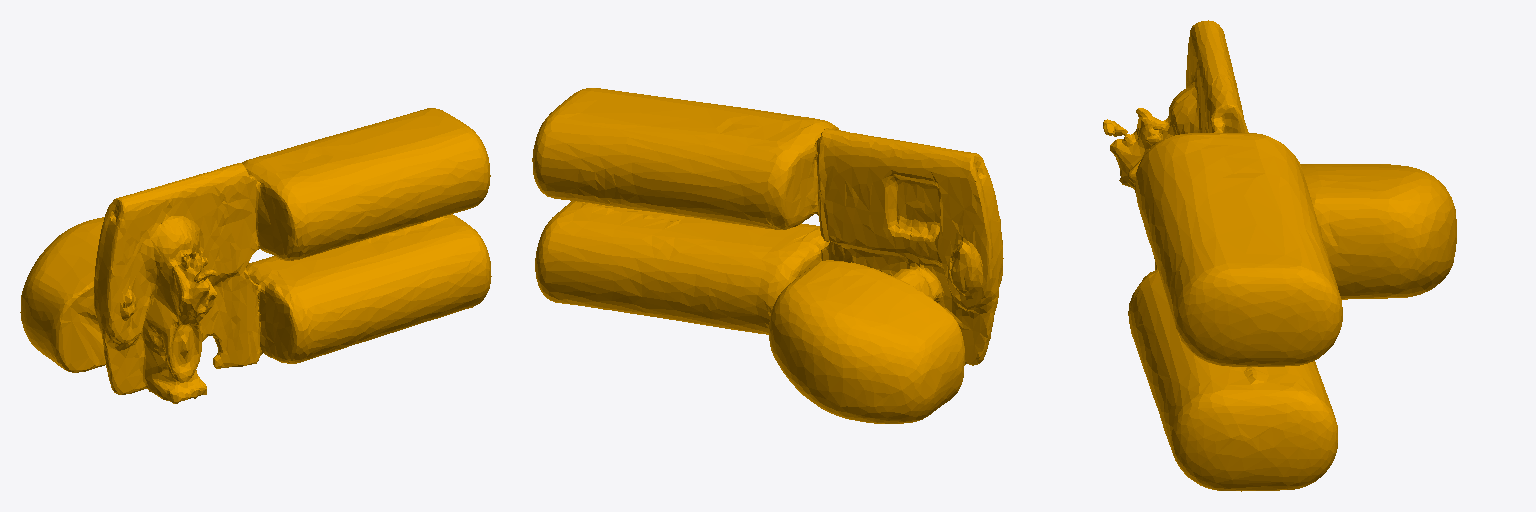
robot.urdf — 3spj876b:
<?xml version='1.0'?>

<robot name="3spj876b">
    <static>false</static>
    <link name="link">
        <inertial>
            <mass value="0.0900364515548153"/>
            <inertia ixx="4.9706601539168427e-05" ixy="1.854532700612015e-05" ixz="-1.0028537017635983e-05"
                     iyy="0.00016492616955488714" iyz="5.772808639216231e-06" izz="0.00016247431842904666"/>
        </inertial>
        <collision name="collision">
            <geometry>
                <mesh filename="package://miscnet/train/3spj876b/collision_model_vhacd.obj"/>
            </geometry>
        </collision>
        <visual name="visual">
            <geometry>
                <mesh filename="package://miscnet/train/3spj876b/visual_model.obj"/>
            </geometry>
        </visual>
    </link>
</robot>

--- Render facts (derived) ---
3 views of the same robot in one strip: view 1: azimuth 30°, elevation 25°; view 2: azimuth 150°, elevation 25°; view 3: azimuth 270°, elevation 25° (orthographic).
Robot: 3spj876b — 1 links, 0 joints (none); root link link; default pose: every joint at zero.
Links seen in each view (by area): view 1: link; view 2: link; view 3: link.
Link boxes in pixels (x1,y1,x2,y2): link: (20,108,491,403); link: (532,88,1003,423); link: (1103,20,1456,491).
Size in the robot's own frame: 0.1381 by 0.0829 by 0.0656 metres.
Meshes: 1 distinct files referenced, 1 mesh visuals loaded (1 OBJ).
